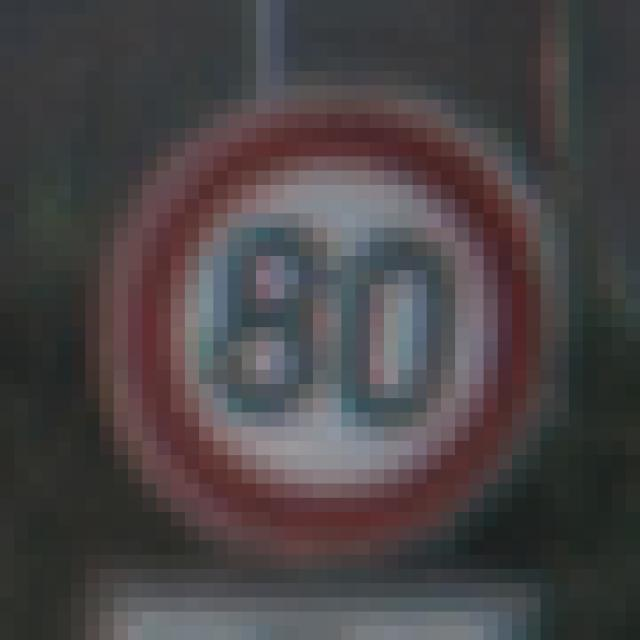Ograniczenie predkosci do 80: (124, 107, 539, 549)
